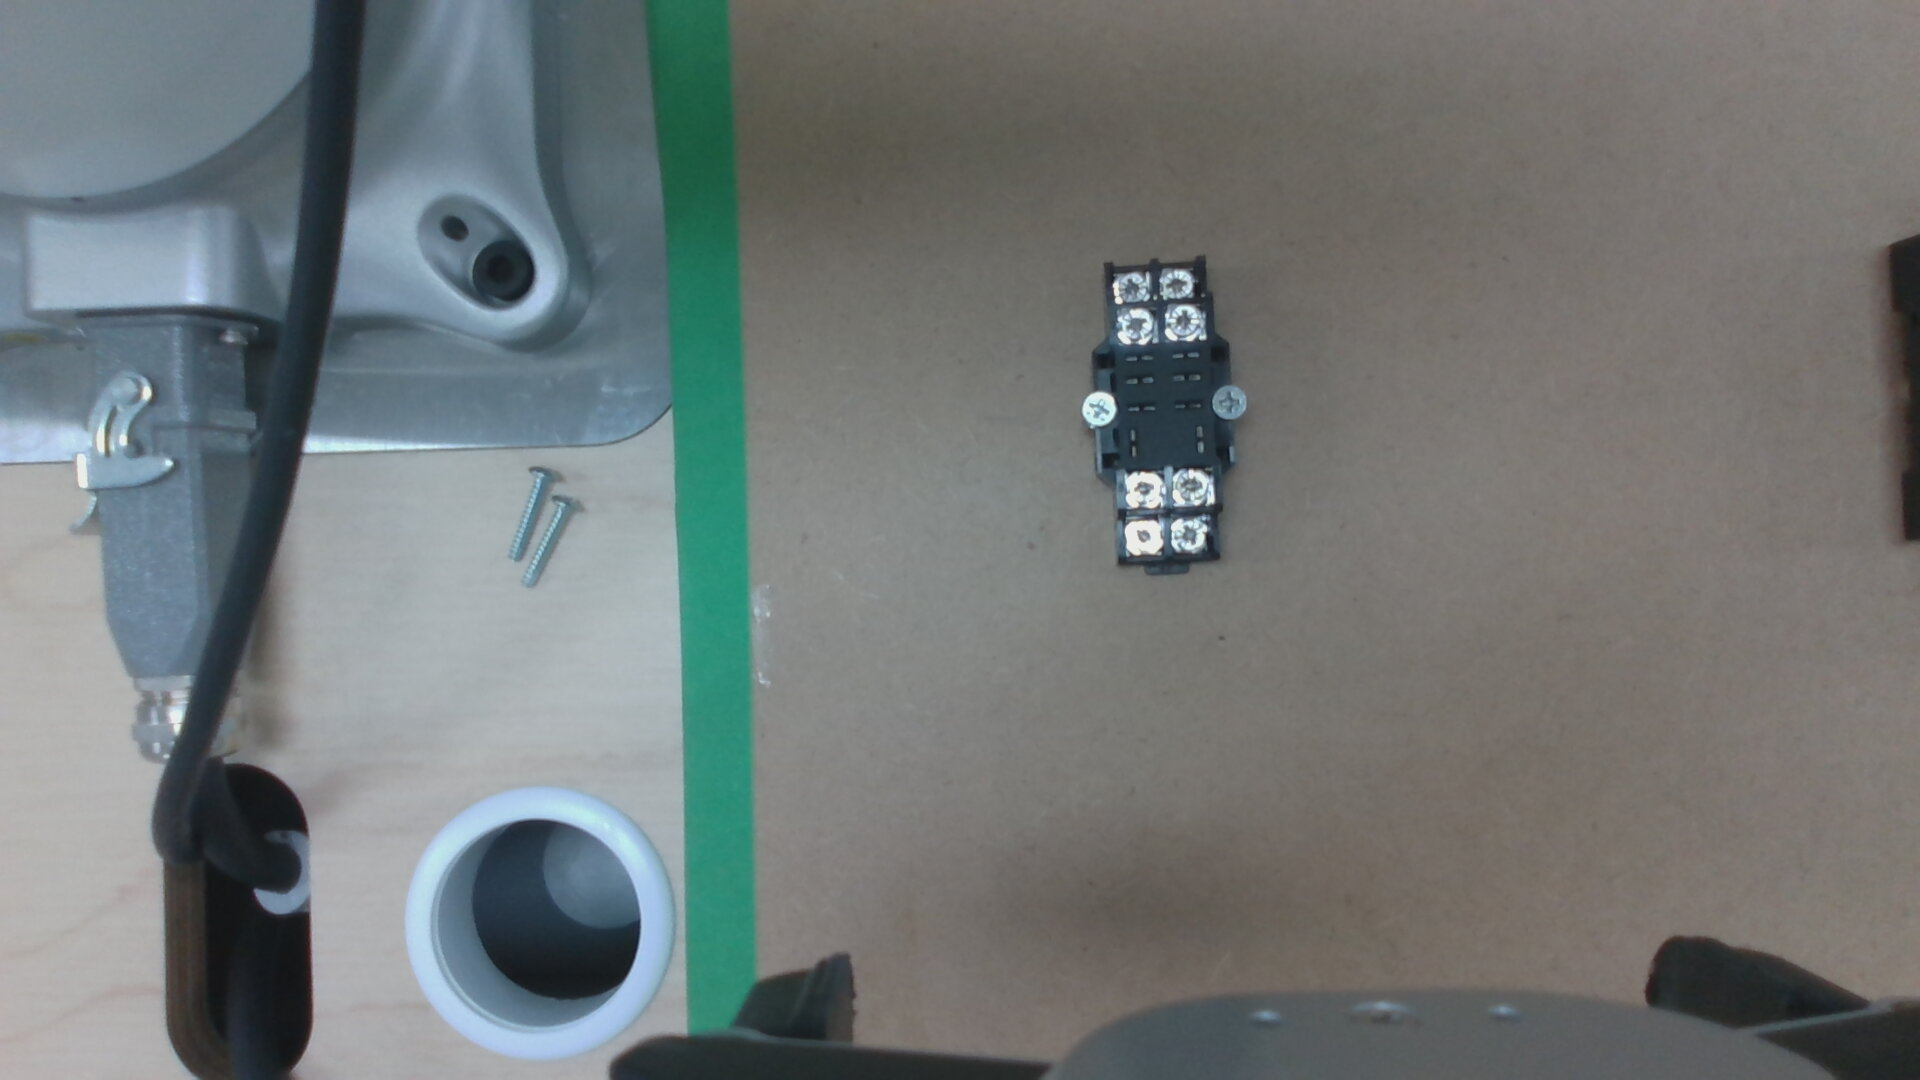relay 3: (1160, 266, 1197, 295)
relay 4: (1112, 276, 1150, 302)
relay 5: (1170, 520, 1211, 551)
relay 6: (1125, 521, 1160, 554)
relay 7: (1174, 468, 1212, 504)
relay 8: (1124, 472, 1164, 505)
